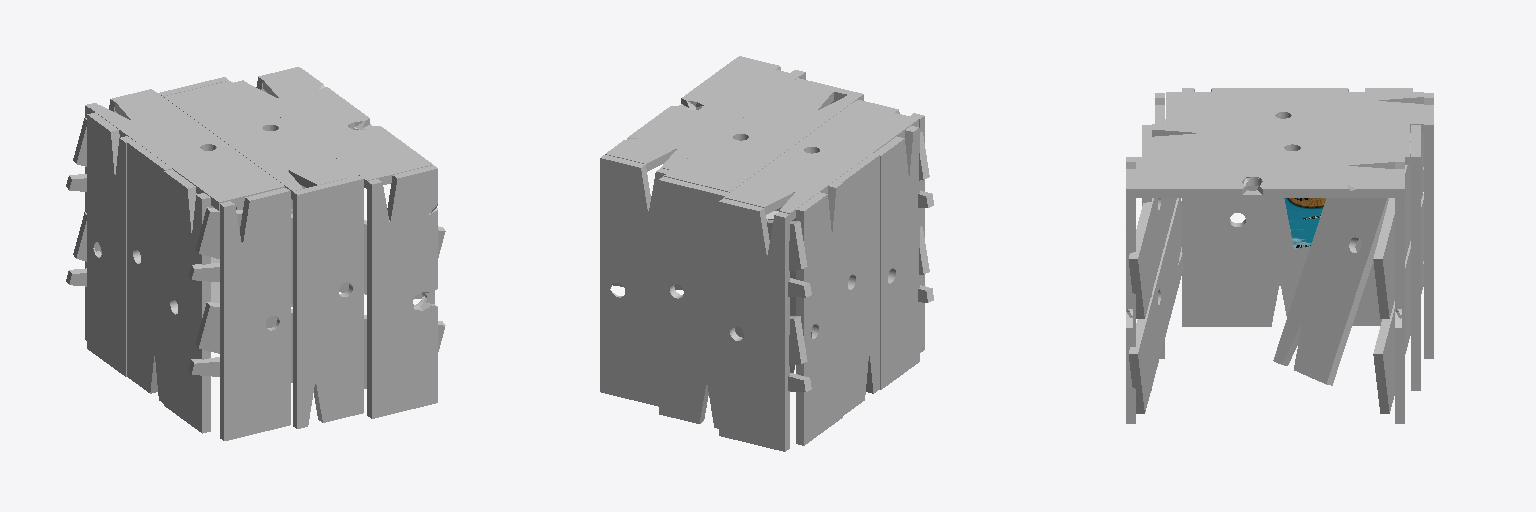
3 views of the same model, side by side, from view 1: azimuth 30°, elevation 25°; view 2: azimuth 150°, elevation 25°; view 3: azimuth 270°, elevation 25° (orthographic).
Visible parts, largest first — view 1: Plane; view 2: Plane; view 3: Plane.
Boxes of the visible parts, x1=… form: Plane: x1=66, y1=67, x2=445, y2=440; Plane: x1=600, y1=56, x2=933, y2=451; Plane: x1=1126, y1=88, x2=1433, y2=423.
Size of the model in its own units: 3.12 by 3.06 by 3.6.
2 materials, 1 textured.